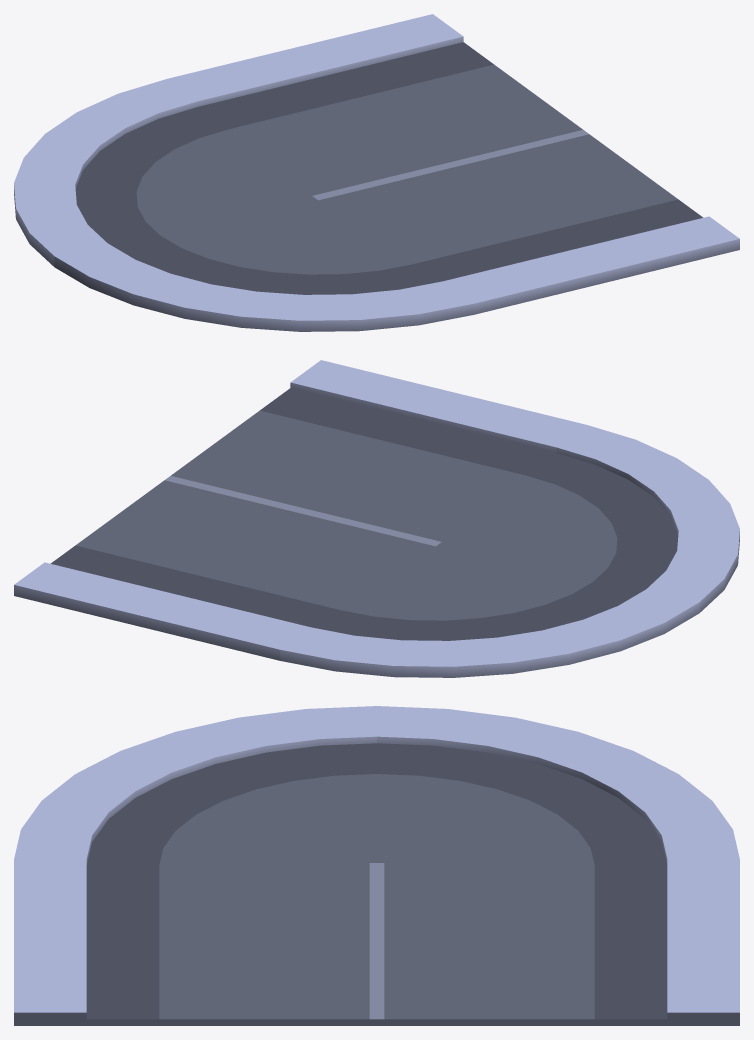
Rendered from road-end-round.glb.
3 renders of one model, top to bottom at view 1: azimuth 30°, elevation 25°; view 2: azimuth 150°, elevation 25°; view 3: azimuth 270°, elevation 25°, orthographic. The views are drawn at different scales.
Parts seen in each view (by area): view 1: road-end-round; view 2: road-end-round; view 3: road-end-round.
Part boxes in pixels (bbox=[...]): road-end-round: bbox=[14, 14, 739, 331]; road-end-round: bbox=[14, 360, 739, 677]; road-end-round: bbox=[14, 706, 739, 1025].
Bounding box in the file's own units: 1 × 0.02 × 1.
Materials: 1 (1 with a texture image).
